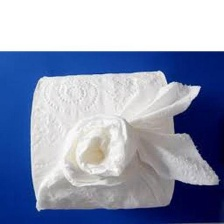tissue: (22, 66, 223, 217)
